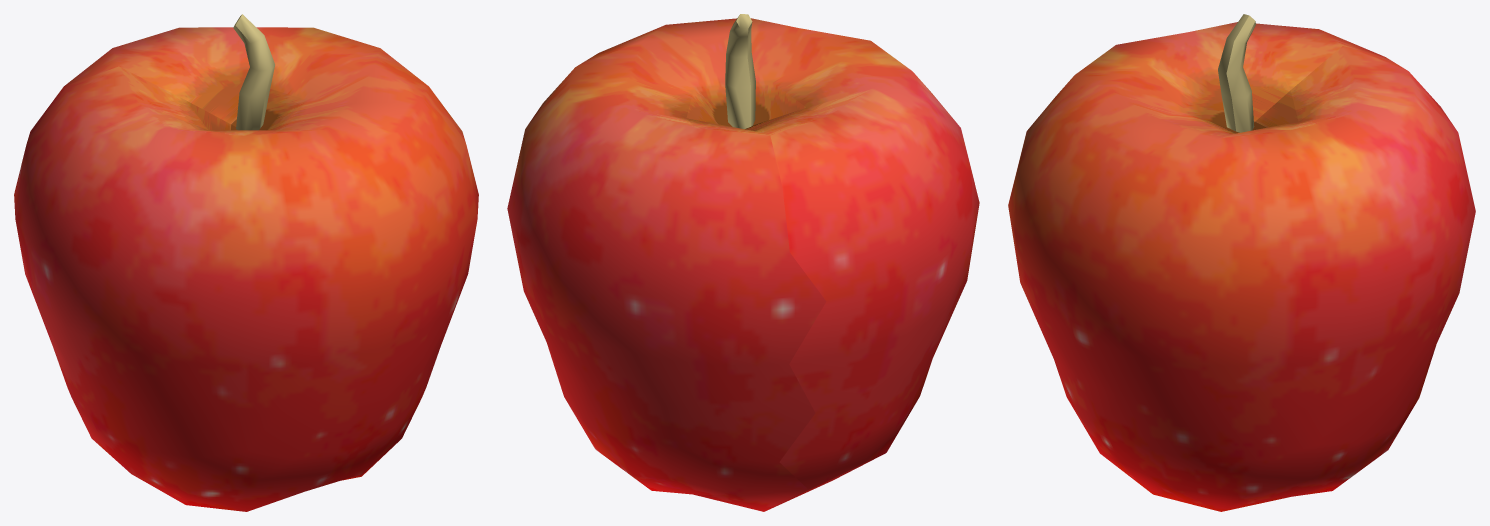
Rendered from Apple.obj.
3 renders of one model, left to right at view 1: azimuth 30°, elevation 25°; view 2: azimuth 150°, elevation 25°; view 3: azimuth 270°, elevation 25°, orthographic.
Visible parts, largest first — view 1: default; view 2: default; view 3: default.
Boxes of the visible parts, x1,y1,x2,y2 form: default: [14, 14, 478, 511]; default: [507, 14, 979, 511]; default: [1008, 14, 1475, 511].
Size of the model in its own units: 0.5453 by 0.588 by 0.5451.
1 material, 1 textured.
